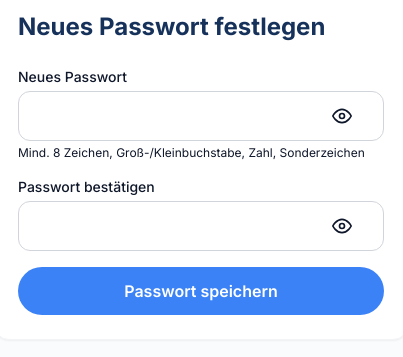
Test case: ResetPasswordForm › zeigt einen Fehler bei nicht uebereinstimmenden Passwoertern
In the password field labelled "Neues Passwort": (201, 116) [18,91,384,141], type "NeuesPass1!"
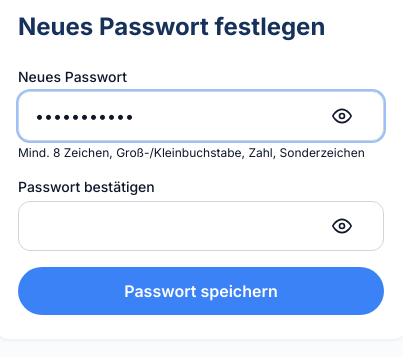
In the password field labelled "Passwort bestätigen": (201, 226) [18,201,384,251], type "anderes-passwort"
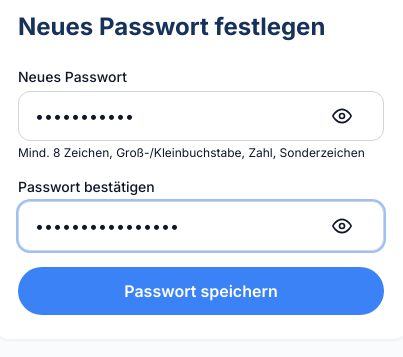
Click the button "Passwort speichern": (201, 291) [18,267,384,315]
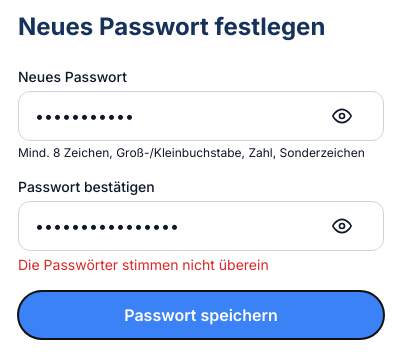
Result: the text "Die Passwörter stimmen nicht überein" is shown at [18,256,269,273]
